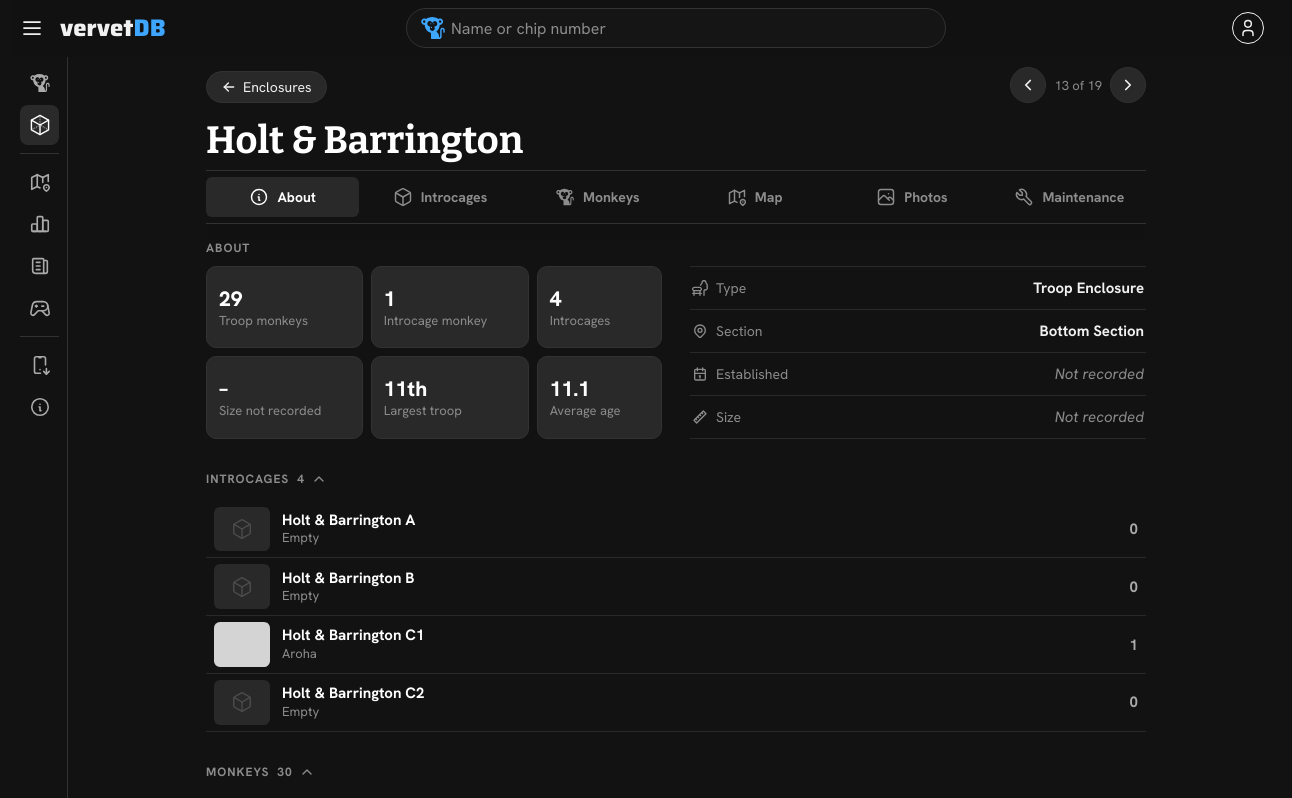
it: an enclosure's record › its details, counts, introcages, troop and introcage monkeys
Check: the heading "Holt & Barrington" is shown, box x1=206 y1=119 x2=523 y2=163
Check: the text "Section" shows "Bottom Section", box x1=1040 y1=321 x2=1144 y2=341
Click the button "Monkeys 30": click(260, 772) x1=206 y1=760 x2=315 y2=784
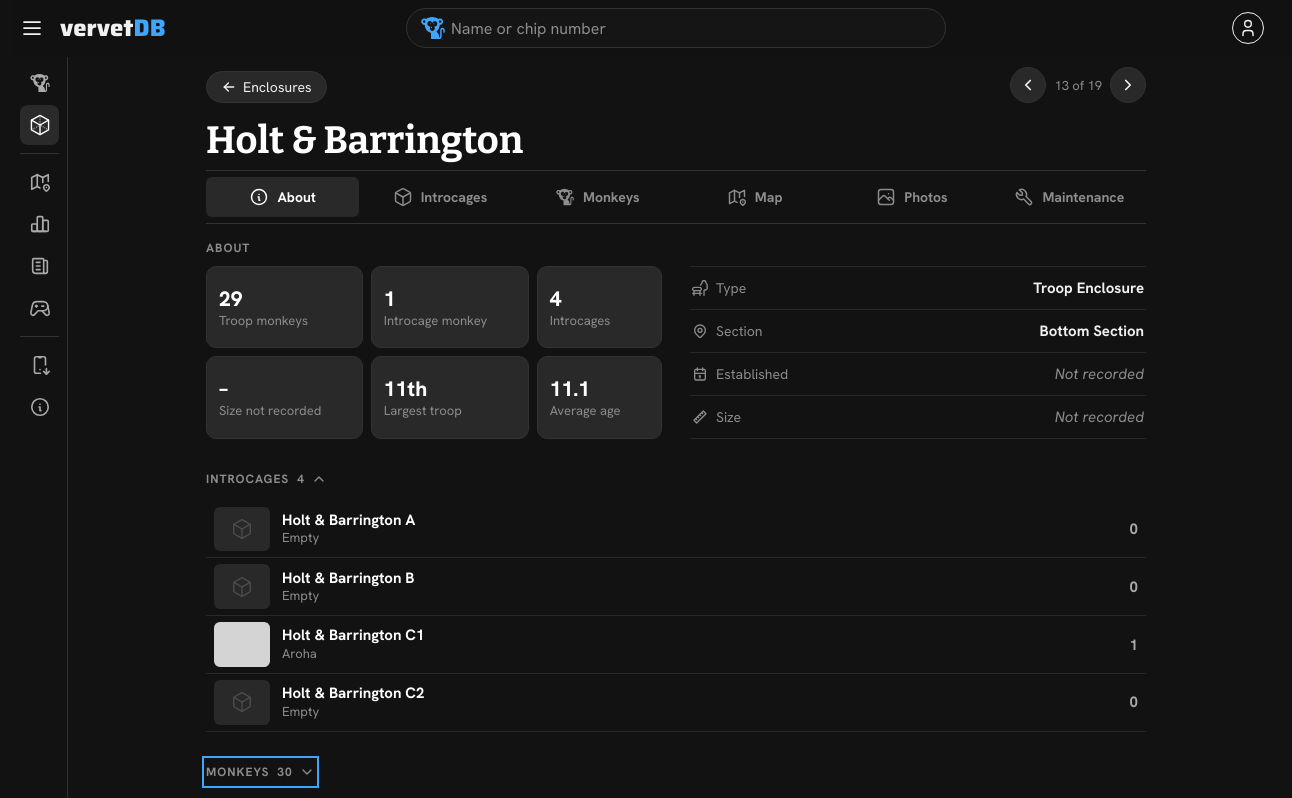
Check: the button "Monkeys 30" is collapsed, box x1=206 y1=760 x2=315 y2=784
